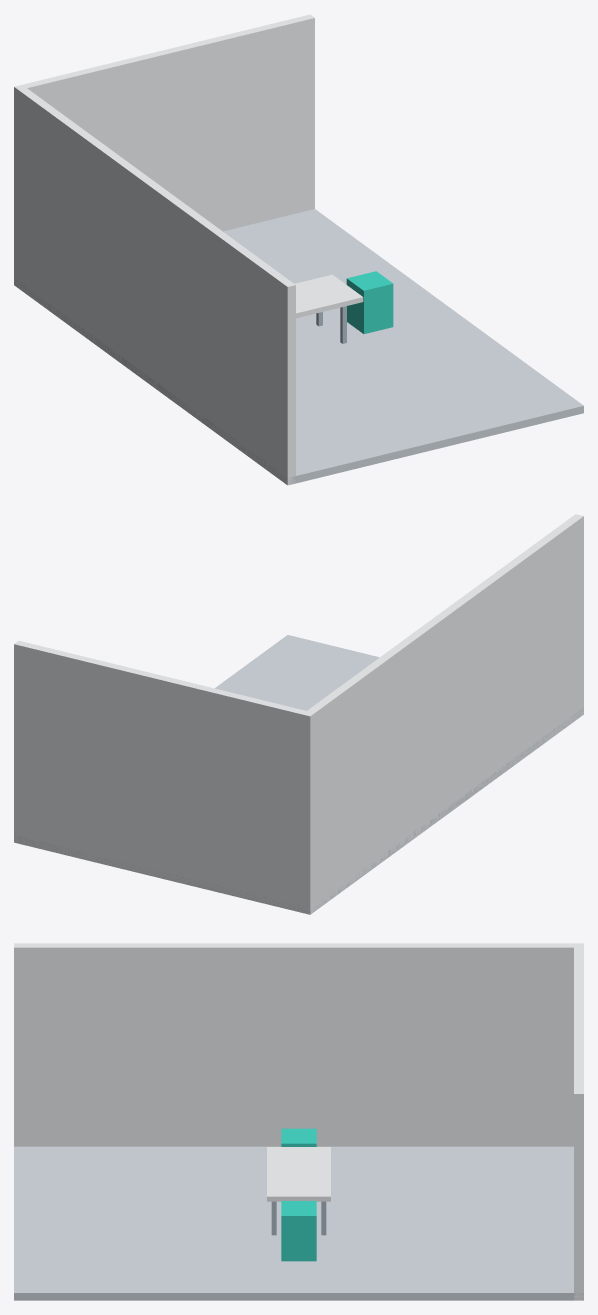
3 renders of one model, top to bottom at view 1: azimuth 30°, elevation 25°; view 2: azimuth 150°, elevation 25°; view 3: azimuth 270°, elevation 25°, orthographic. The views are drawn at different scales.
Visible parts, largest first — view 1: Exhibition Booth Concept; view 2: Exhibition Booth Concept; view 3: Exhibition Booth Concept.
Boxes of the visible parts, <box> form: Exhibition Booth Concept: <box>14,14,583,485</box>; Exhibition Booth Concept: <box>14,514,583,914</box>; Exhibition Booth Concept: <box>14,943,583,1300</box>.
Size of the model in its own units: 5 by 3.2 by 8.
